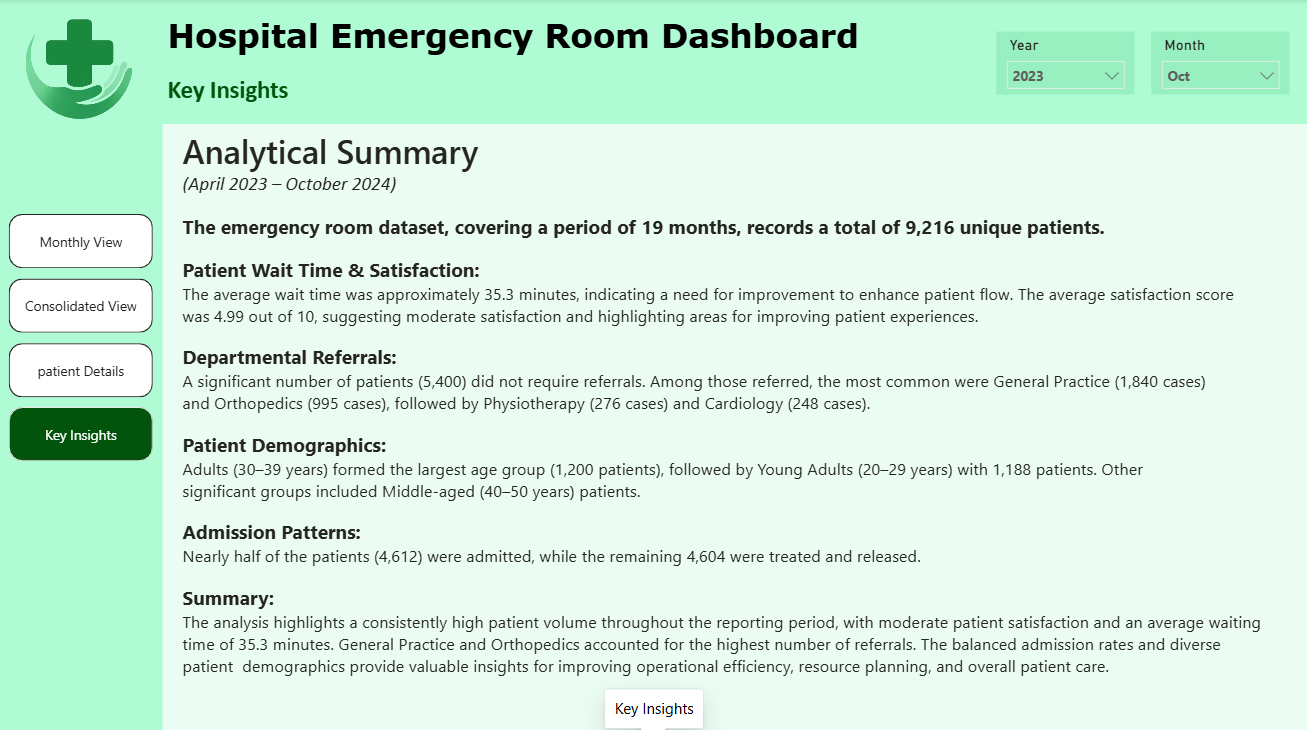

This screenshot's page, from the dashboard's own definition file:
{"tool":"powerbi","page":{"name":"Key Insights","canvas":[1280,720],"ordinal":3},"visuals":[{"type":"shape","box":[0,0,159,720.2],"z":0},{"type":"shape","box":[0,0,1280.3,122.3],"z":1000},{"type":"textbox","box":[159,11,783.8,62.4],"z":2000},{"type":"textbox","box":[159,68.5,377.9,48.9],"z":5000},{"type":"image","box":[0,0,157.7,133.3],"z":6000},{"type":"textbox","box":[159,122,1121,598],"z":7000},{"type":"pageNavigator","box":[9,210.3,141,244.9],"z":8000}]}

Visuals, with their boxes in screenshot pixels (x1, y1, x2, y2), scaled from the page's 1280x720 canvas onto the 1307x730 screenshot:
shape: l=0, t=0, r=162, b=729
shape: l=0, t=0, r=1306, b=124
textbox: l=162, t=11, r=963, b=74
textbox: l=162, t=69, r=548, b=119
image: l=0, t=0, r=161, b=135
textbox: l=162, t=124, r=1306, b=729
pageNavigator: l=9, t=213, r=153, b=462
